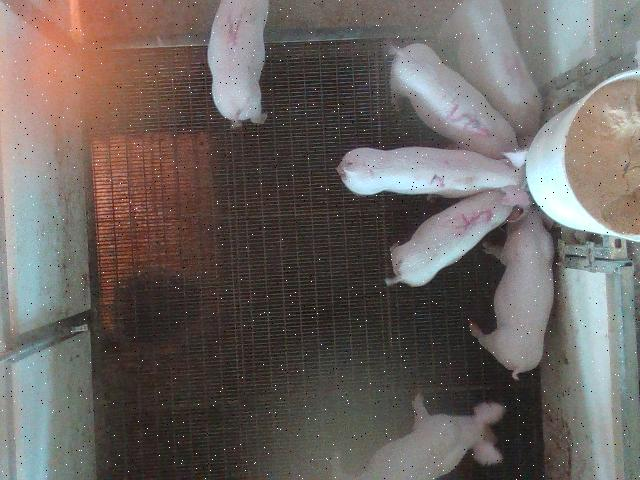pig-1: (208, 2, 269, 122)
pig-3: (390, 44, 519, 159)
pig-4: (439, 2, 540, 146)
pig-5: (386, 190, 514, 286)
